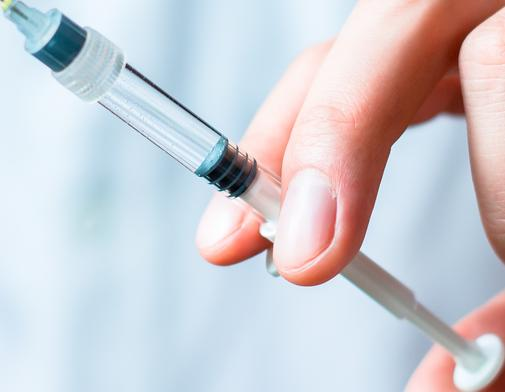syringes: (0, 1, 505, 392)
